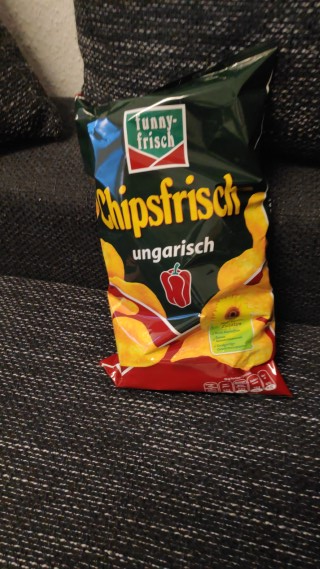chipsfrisch: (71, 43, 296, 399)
